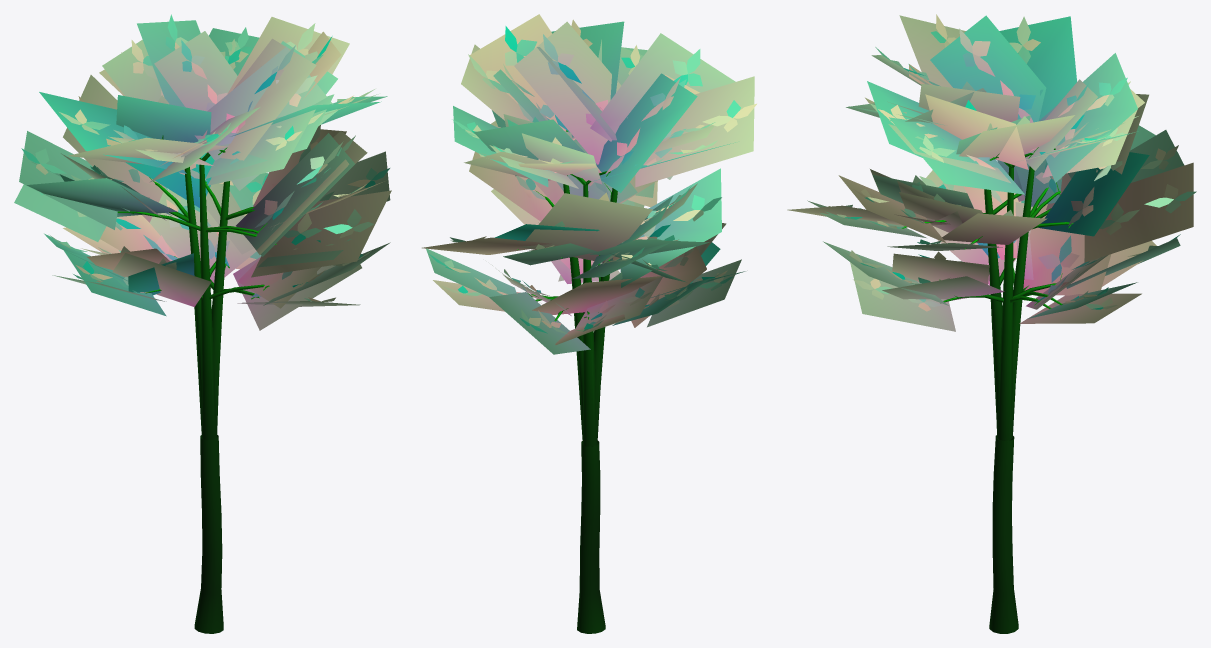
The model's file is teak_3.glb.
The picture shows the model from 3 angles, left to right: view 1: azimuth 30°, elevation 25°; view 2: azimuth 150°, elevation 25°; view 3: azimuth 270°, elevation 25°; orthographic projection. The views are drawn at different scales.
Visible parts, largest first — view 1: mid, near; view 2: mid, near; view 3: mid, near.
Boxes of the visible parts, left/top/right/bottom form: mid: left=14, top=17, right=391, bottom=440; near: left=21, top=14, right=389, bottom=633; mid: left=422, top=14, right=754, bottom=446; near: left=428, top=19, right=756, bottom=633; mid: left=787, top=15, right=1193, bottom=441; near: left=807, top=14, right=1196, bottom=633.
Bounding box in the file's own units: 9.23 × 16.55 × 10.63.
